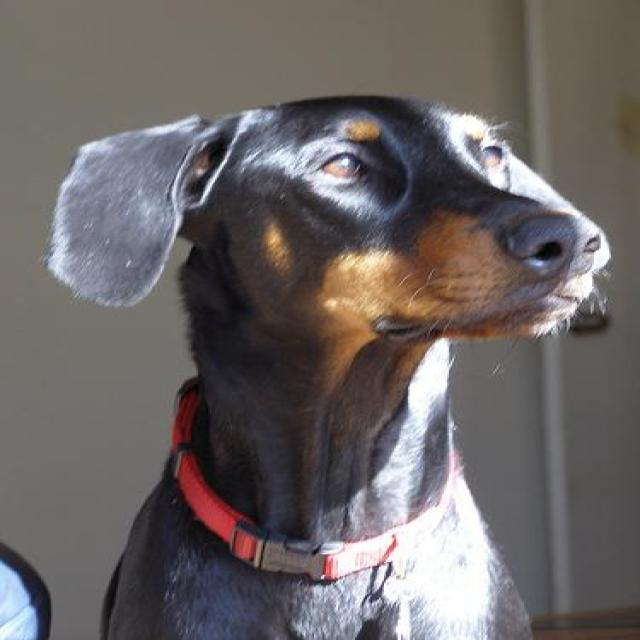relax: (59, 51, 640, 448)
